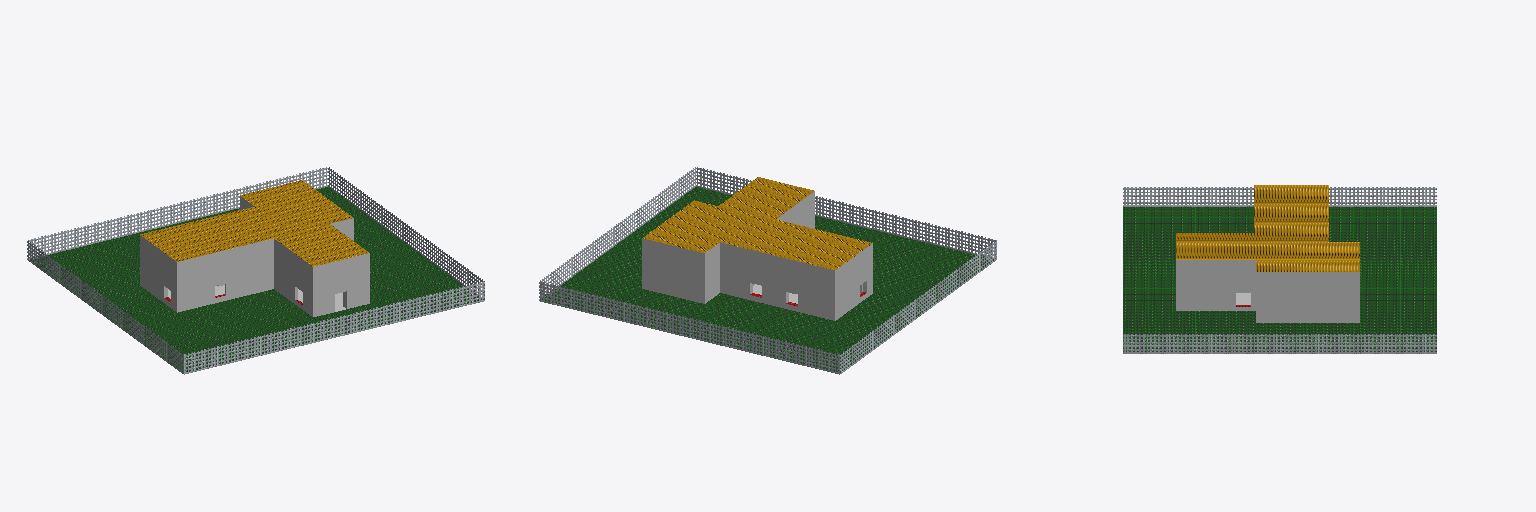
3 renders of one model, left to right at view 1: azimuth 30°, elevation 25°; view 2: azimuth 150°, elevation 25°; view 3: azimuth 270°, elevation 25°, orthographic.
Visible parts, largest first — view 1: Plane.002, Cube.002; view 2: Plane.002, Cube.002; view 3: Plane.002, Cube.002.
Boxes of the visible parts, x1,y1,x2,y2 form: Plane.002: [27, 167, 484, 374]; Cube.002: [140, 180, 369, 316]; Plane.002: [539, 167, 996, 374]; Cube.002: [642, 177, 872, 320]; Plane.002: [1123, 187, 1436, 353]; Cube.002: [1176, 185, 1359, 322].
Size of the model in its own units: 34.8 by 5.72 by 31.36.
9 materials, 5 textured.